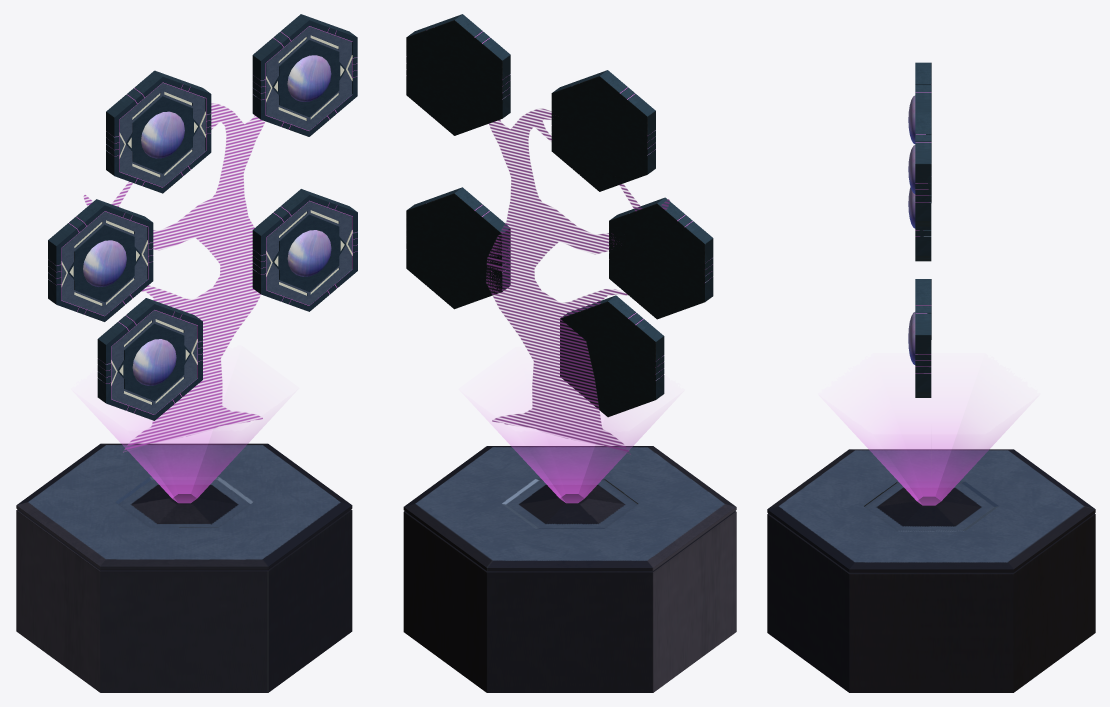
Rendered from ElevatorTeleport01_Art.glb.
3 views of the same model, side by side, from view 1: azimuth 30°, elevation 25°; view 2: azimuth 150°, elevation 25°; view 3: azimuth 270°, elevation 25° (orthographic). The views are drawn at different scales.
Parts seen in each view (by area): view 1: ElevatorTeleport01_Art; view 2: ElevatorTeleport01_Art; view 3: ElevatorTeleport01_Art.
Boxes of the visible parts, <box> form: ElevatorTeleport01_Art: <box>16,14,357,692</box>; ElevatorTeleport01_Art: <box>403,14,736,692</box>; ElevatorTeleport01_Art: <box>767,62,1095,692</box>.
Size of the model in its own units: 4.25 by 6.84 by 3.53.
3 materials, 3 textured.
